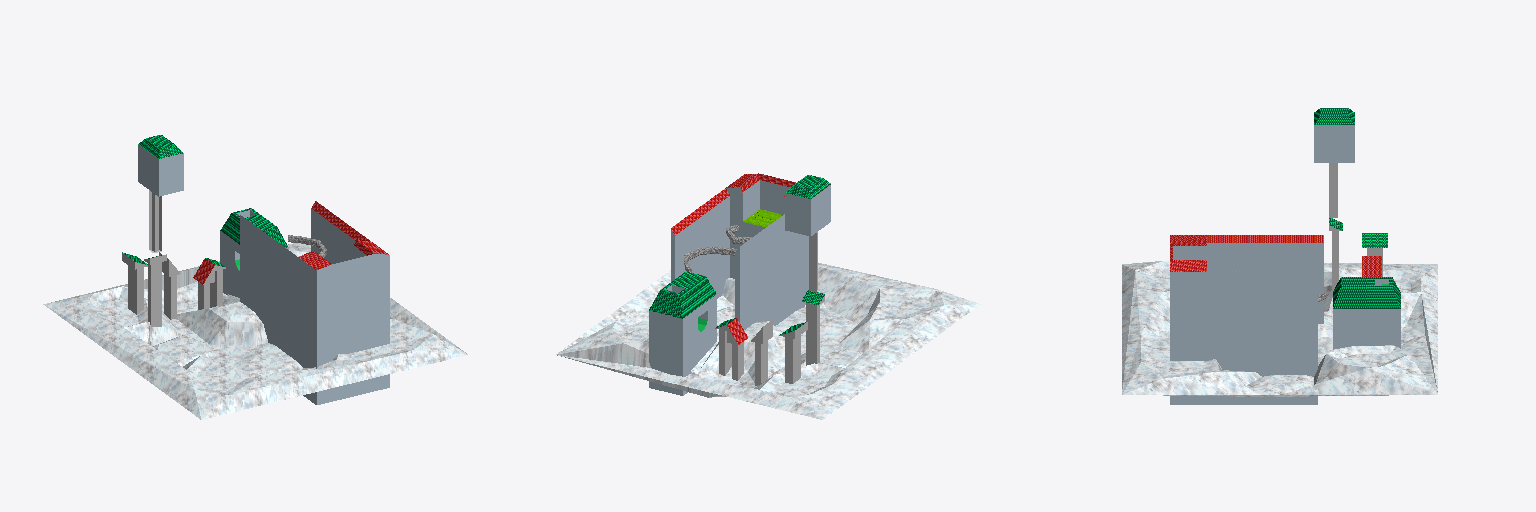
3 renders of one model, left to right at view 1: azimuth 30°, elevation 25°; view 2: azimuth 150°, elevation 25°; view 3: azimuth 270°, elevation 25°, orthographic.
Parts seen in each view (by area): view 1: Mesh10 Component_7_1 Model, Mesh13 Model, Mesh9 Component_4_1 Model, Mesh6 Component_5_1 Model, Mesh11 Model, Mesh5 Component_3_1 Model, Mesh8 Component_8_1 Model, Mesh3 Component_2_1 Model, Mesh1 Component_1_1 Model, Mesh2 Component_1_2 Model; view 2: Mesh10 Component_7_1 Model, Mesh11 Model, Mesh9 Component_4_1 Model, Mesh5 Component_3_1 Model, Mesh13 Model, Mesh6 Component_5_1 Model, Mesh8 Component_8_1 Model, Mesh3 Component_2_1 Model, Mesh1 Component_1_1 Model, Mesh2 Component_1_2 Model, Mesh12 Model, Mesh4 Component_2_2 Model; view 3: Mesh10 Component_7_1 Model, Mesh5 Component_3_1 Model, Mesh11 Model, Mesh9 Component_4_1 Model, Mesh13 Model, Mesh6 Component_5_1 Model, Mesh8 Component_8_1 Model, Mesh3 Component_2_1 Model.
Boxes of the visible parts, box(x1,y1,x2,y2) form: Mesh10 Component_7_1 Model: box(43, 243, 467, 419); Mesh13 Model: box(299, 240, 389, 404); Mesh9 Component_4_1 Model: box(240, 215, 299, 363); Mesh6 Component_5_1 Model: box(138, 135, 183, 252); Mesh11 Model: box(220, 208, 288, 297); Mesh5 Component_3_1 Model: box(311, 201, 369, 263); Mesh8 Component_8_1 Model: box(144, 254, 166, 326); Mesh3 Component_2_1 Model: box(122, 252, 147, 314); Mesh1 Component_1_1 Model: box(159, 252, 180, 319); Mesh2 Component_1_2 Model: box(193, 258, 214, 309); Mesh10 Component_7_1 Model: box(556, 263, 980, 419); Mesh11 Model: box(649, 272, 716, 395); Mesh9 Component_4_1 Model: box(735, 214, 799, 329); Mesh5 Component_3_1 Model: box(671, 188, 729, 298); Mesh13 Model: box(726, 173, 808, 308); Mesh6 Component_5_1 Model: box(785, 175, 830, 292); Mesh8 Component_8_1 Model: box(802, 290, 824, 365); Mesh3 Component_2_1 Model: box(779, 322, 807, 383); Mesh1 Component_1_1 Model: box(751, 320, 772, 385); Mesh2 Component_1_2 Model: box(727, 318, 747, 380); Mesh12 Model: box(684, 225, 752, 272); Mesh4 Component_2_2 Model: box(715, 318, 735, 375); Mesh10 Component_7_1 Model: box(1122, 261, 1437, 396); Mesh5 Component_3_1 Model: box(1197, 272, 1317, 404); Mesh11 Model: box(1333, 277, 1400, 349); Mesh9 Component_4_1 Model: box(1207, 235, 1323, 323); Mesh13 Model: box(1170, 235, 1206, 404); Mesh6 Component_5_1 Model: box(1314, 108, 1354, 217); Mesh8 Component_8_1 Model: box(1329, 218, 1342, 296); Mesh3 Component_2_1 Model: box(1362, 233, 1387, 276).
Size of the model in its own units: 3120 by 2468 by 3196.
13 materials, 9 textured.